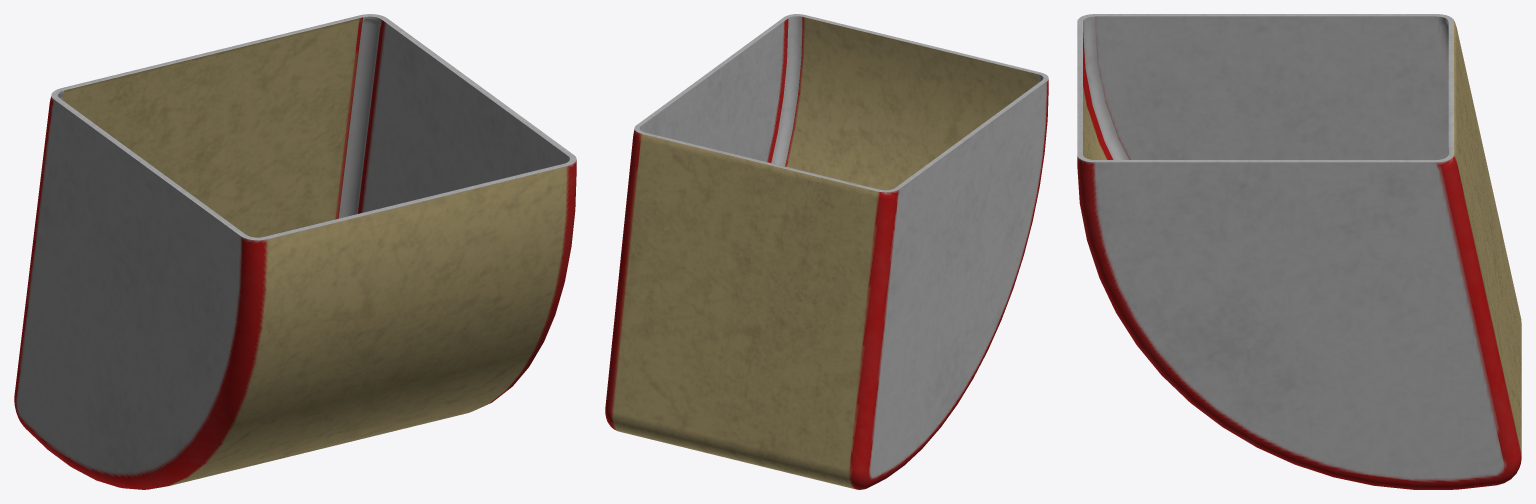
File: _flipper.fbx
The picture shows the model from 3 angles, left to right: view 1: azimuth 30°, elevation 25°; view 2: azimuth 150°, elevation 25°; view 3: azimuth 270°, elevation 25°; orthographic projection. The views are drawn at different scales.
Visible parts, largest first — view 1: flipper.001; view 2: flipper.001; view 3: flipper.001.
Part boxes in pixels (box(x1,y1,x2,y2)): flipper.001: box(14, 14, 576, 489); flipper.001: box(605, 14, 1048, 489); flipper.001: box(1077, 14, 1521, 489).
Bounding box in the file's own units: 30000 × 31407 × 37950.
